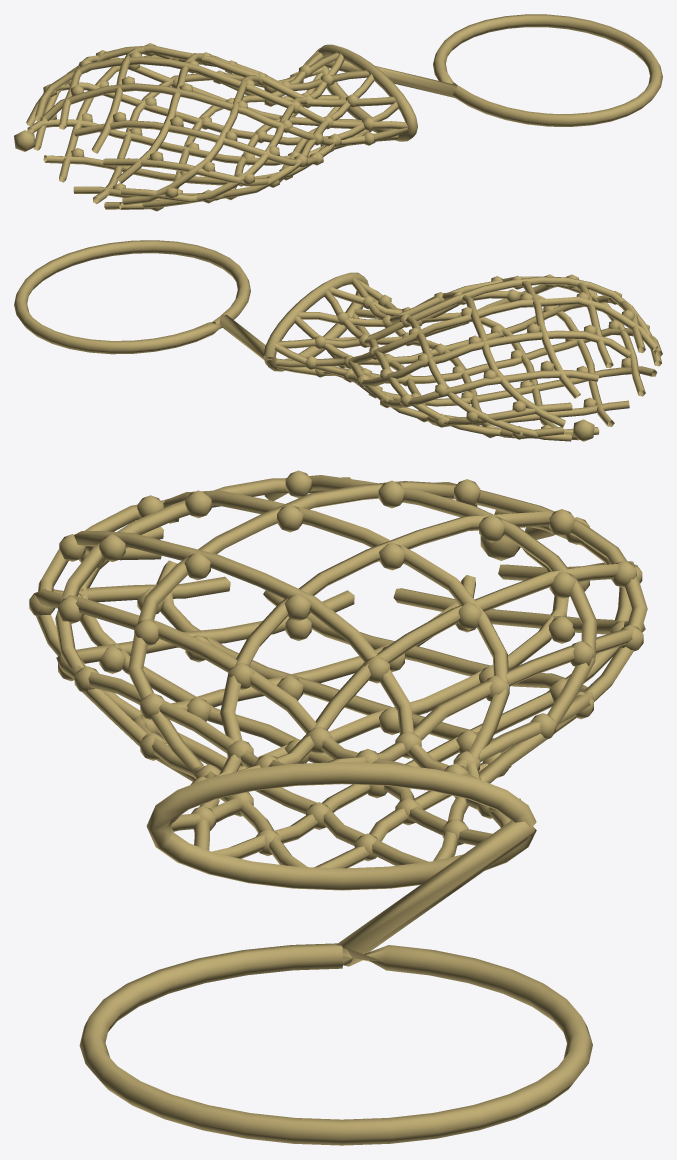
The model's file is sac_filet.glb.
The picture shows the model from 3 angles, top to bottom: view 1: azimuth 30°, elevation 25°; view 2: azimuth 150°, elevation 25°; view 3: azimuth 270°, elevation 25°; orthographic projection. The views are drawn at different scales.
Visible parts, largest first — view 1: Sac_filet; view 2: Sac_filet; view 3: Sac_filet.
Boxes of the visible parts, x1,y1,x2,y2 form: Sac_filet: (14,14,662,211); Sac_filet: (14,240,662,441); Sac_filet: (29,470,647,1145).
Size of the model in its own units: 0.585 by 0.095 by 0.2665.
